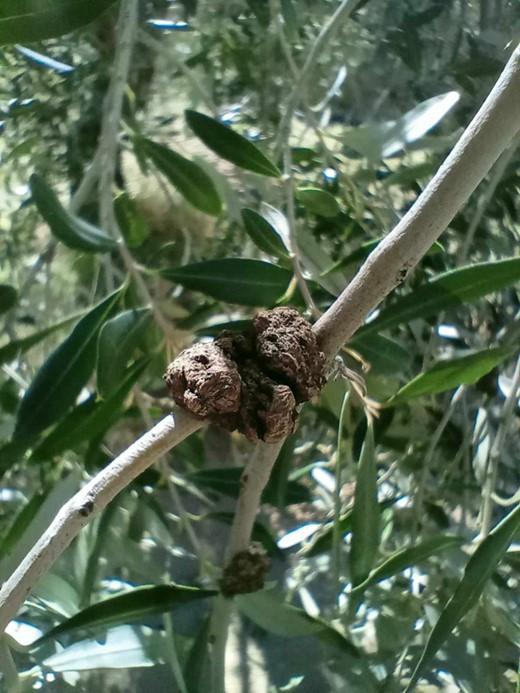Tuberculosis: (160, 306, 343, 441)
